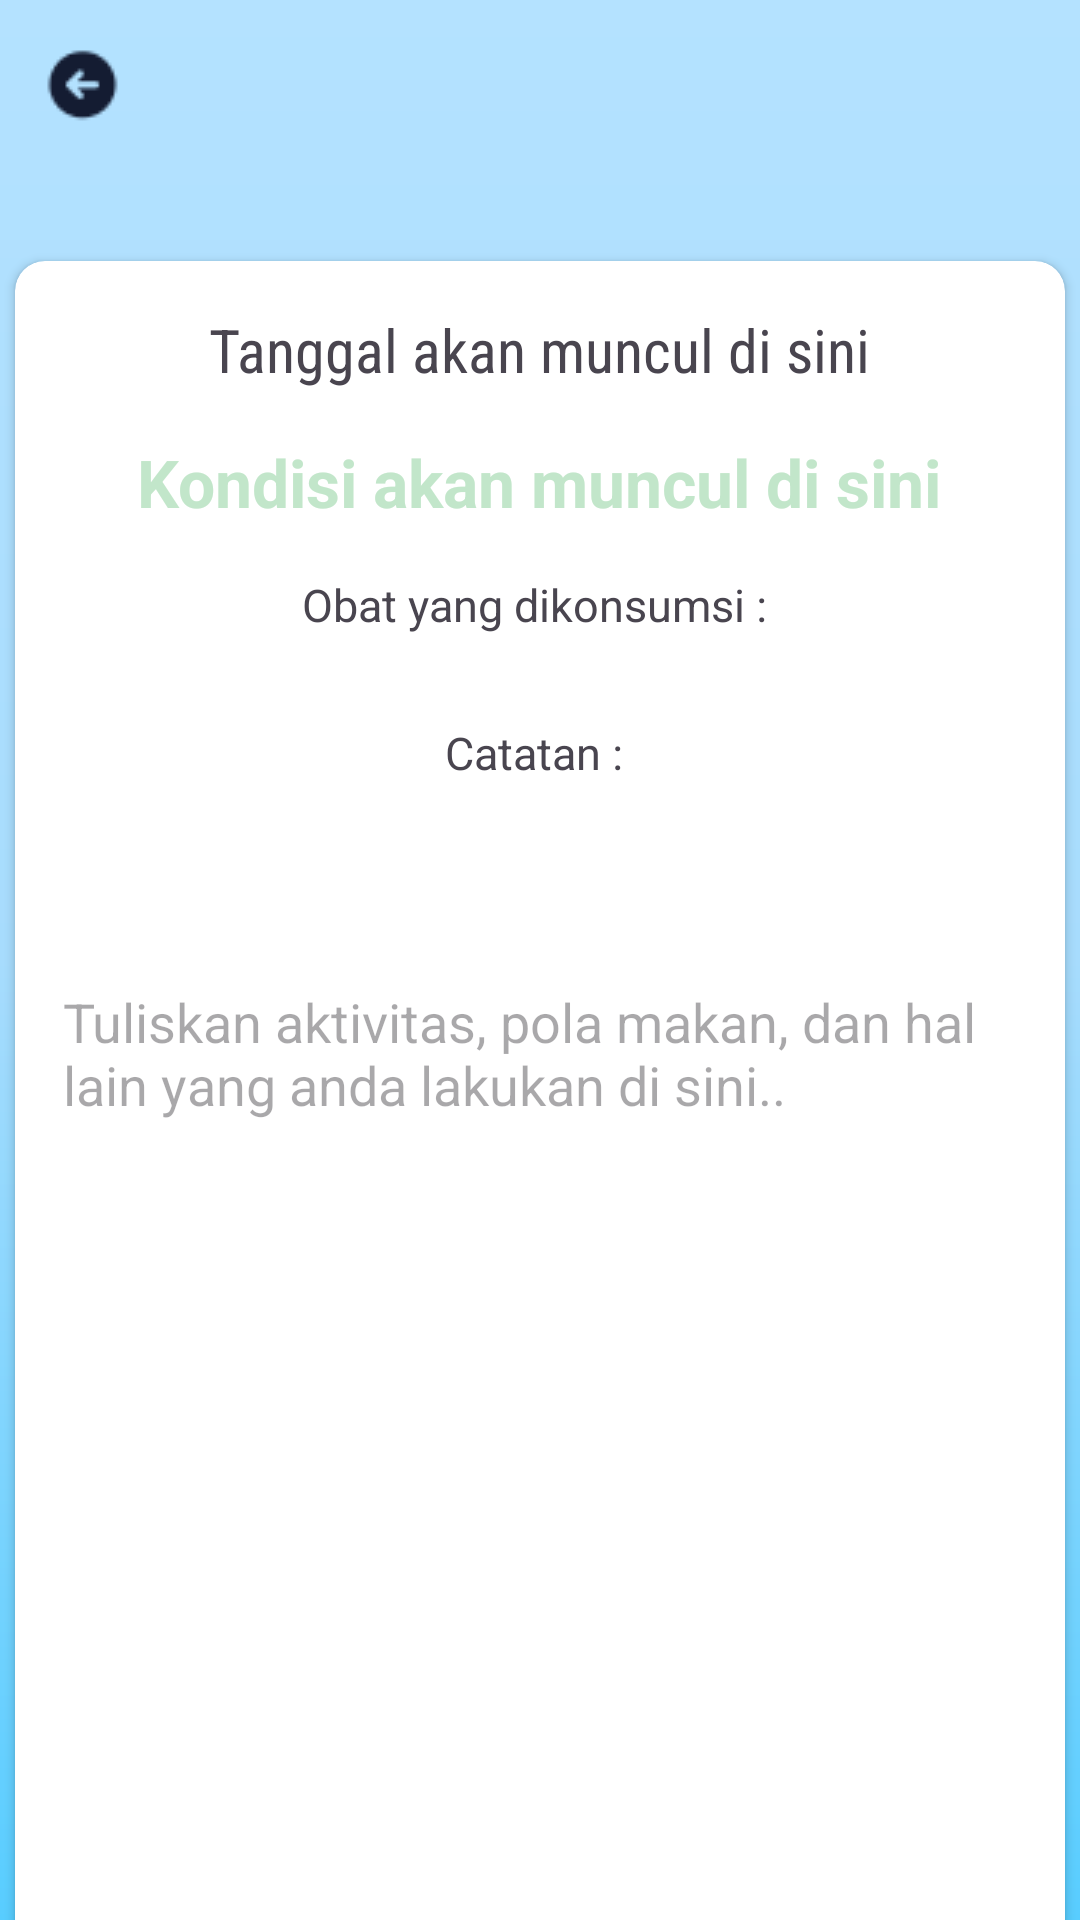

Icons on this 1080 x 1920 Android screen, each with its box as (left=x1, top=y1, right=x2, bottom=y2):
back: (left=47, top=50, right=118, bottom=120)
